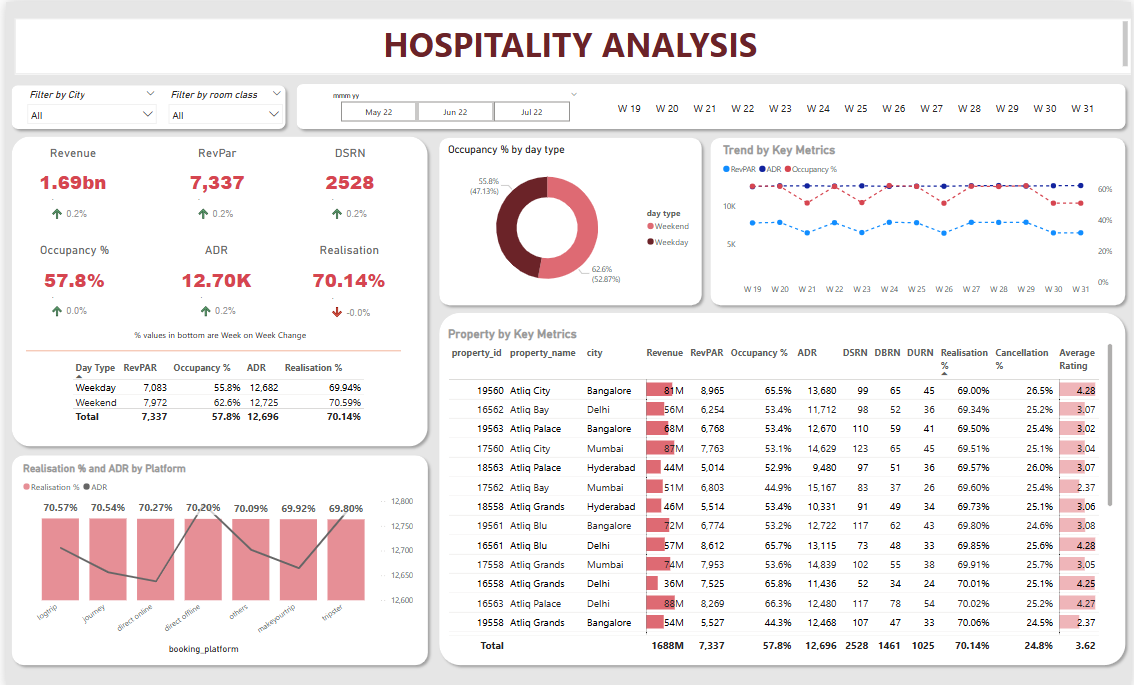

Layout of this report page (visuals, bound fields, positions):
{"tool":"powerbi","page":{"name":"Overall","canvas":[1800,1100],"ordinal":0},"visuals":[{"type":"shape","box":[0,124,456,88],"z":0},{"type":"shape","box":[456,122,1344,90],"z":1000},{"type":"shape","box":[684,488,1116,582],"z":2000},{"type":"shape","box":[684,208,438,286],"z":3000},{"type":"shape","box":[1118.6,208.6,681.7,286.1],"z":4000},{"type":"shape","box":[0.2,207,683.4,513.9],"z":5000},{"type":"slicer","fields":{"Values":["dim_rooms.room_class"]},"box":[250.7,133.3,202.7,72],"z":6000},{"type":"slicer","fields":{"Values":["dim_hotels.city"]},"box":[24,134.7,226.7,76],"z":7000},{"type":"card","title":"Revenue","fields":{"Values":["key_measures.Revenue"]},"box":[30.7,230.7,154.7,95.8],"z":8000,"group":"g2"},{"type":"tableEx","title":"Property by Key Metrics","fields":{"Values":["dim_hotels.property_id","dim_hotels.property_name","dim_hotels.city","key_measures.Revenue","key_measures.Rev Par","key_measures.Occupancy %","key_measures.ADR","key_measures.DSRN","key_measures.DBRN","key_measures.DURN","key_measures.Realisation %","key_measures.cancellation_rate"]},"box":[702,520,1074,528],"z":8000},{"type":"lineChart","title":"Trend by Key Metrics","fields":{"Category":["dim_date.mmm yy.Variation.Date Hierarchy.Month","dim_date.week no"],"Y2":["key_measures.Occupancy %"],"Y":["key_measures.Rev Par","key_measures.ADR"]},"box":[1142.7,225.3,633.3,252],"z":9000},{"type":"card","title":"RevPar","fields":{"Values":["key_measures.Rev Par"]},"box":[257.9,230.7,160.2,95.8],"z":9000,"group":"g2"},{"type":"card","title":"Occupancy %","fields":{"Values":["key_measures.Occupancy %"]},"box":[14.7,386.3,192,96],"z":9000,"group":"g1"},{"type":"tableEx","fields":{"Values":["dim_date.day type","key_measures.Rev Par","key_measures.Occupancy %","key_measures.ADR","key_measures.Realisation %"]},"box":[100,570,486,114],"z":10000},{"type":"card","title":"DSRN","fields":{"Values":["key_measures.DSRN"]},"box":[456.5,231.1,189.3,96],"z":11000,"group":"g2"},{"type":"shape","box":[0,716,684,354],"z":11000},{"type":"card","title":"ADR","fields":{"Values":["key_measures.ADR"]},"box":[241.4,385.9,193.3,96],"z":12000,"group":"g1"},{"type":"lineStackedColumnComboChart","title":"Realisation % and ADR by Platform","fields":{"Category":["fact_bookings.booking_platform"],"Y":["key_measures.Realisation %"],"Y2":["key_measures.ADR"]},"box":[22,736,634,312],"z":12000},{"type":"slicer","fields":{"Values":["dim_date.week no"]},"box":[942,146,834,48],"z":13000},{"type":"card","title":"Realisation","fields":{"Values":["key_measures.Realisation %"]},"box":[452.5,386.8,194.7,96],"z":13000,"group":"g1"},{"type":"group","id":"g1","title":"Group 1","box":[14.7,385.9,632.4,96.9],"z":15000},{"type":"group","id":"g2","title":"Group 2","box":[30.7,230.7,615.1,96.4],"z":17000},{"type":"tableEx","fields":{"Values":["key_measures.Revpar WoW change %"]},"box":[296,297.3,92,58.7],"z":18000},{"type":"shape","box":[32,550,600,16],"z":20000},{"type":"tableEx","fields":{"Values":["key_measures.Revpar WoW change %"]},"box":[61.3,297.3,92,58.7],"z":21000},{"type":"tableEx","fields":{"Values":["key_measures.Revpar WoW change %"]},"box":[509.3,297.3,92,58.7],"z":22000},{"type":"group","id":"g3","title":"Group 3","box":[61.3,454.3,540,60],"z":24000},{"type":"textbox","box":[200,517.3,308,33.3],"z":25000},{"type":"textbox","box":[14,26,1786,90],"z":26000},{"type":"tableEx","fields":{"Values":["key_measures.Occupancy WoW change %"]},"box":[61.3,454.3,92,58.7],"z":27000,"group":"g3"},{"type":"slicer","fields":{"Values":["dim_date.mmm yy"]},"box":[510,138,416,60],"z":27001},{"type":"donutChart","fields":{"Category":["dim_date.day type"],"Y":["key_measures.Occupancy %"]},"box":[701.7,225,405,251.7],"z":27002},{"type":"tableEx","fields":{"Values":["key_measures.ADR WoW change %"]},"box":[298.6,454.3,92,58.7],"z":28000,"group":"g3"},{"type":"tableEx","fields":{"Values":["key_measures.Realisation WoW change %"]},"box":[509.3,455.6,92,58.7],"z":29000,"group":"g3"}]}

Visuals, with their boxes in screenshot pixels (x1, y1, x2, y2), scaled from the page's 1800x1100 canvas onto the 1134x685 screenshot:
shape: BBox(0, 77, 287, 132)
shape: BBox(287, 76, 1133, 132)
shape: BBox(431, 304, 1133, 666)
shape: BBox(431, 130, 707, 308)
shape: BBox(705, 130, 1133, 308)
shape: BBox(0, 129, 431, 449)
slicer - dim_rooms.room_class: BBox(158, 83, 286, 128)
slicer - dim_hotels.city: BBox(15, 84, 158, 131)
"Revenue" card: BBox(19, 144, 117, 203)
"Property by Key Metrics" tableEx: BBox(442, 324, 1119, 653)
"Trend by Key Metrics" lineChart: BBox(720, 140, 1119, 297)
"RevPar" card: BBox(162, 144, 263, 203)
"Occupancy %" card: BBox(9, 241, 130, 300)
tableEx - dim_date.day type x key_measures.Rev Par: BBox(63, 355, 369, 426)
"DSRN" card: BBox(288, 144, 407, 204)
shape: BBox(0, 446, 431, 666)
"ADR" card: BBox(152, 240, 274, 300)
"Realisation % and ADR by Platform" lineStackedColumnComboChart: BBox(14, 458, 413, 653)
slicer - dim_date.week no: BBox(593, 91, 1119, 121)
"Realisation" card: BBox(285, 241, 408, 301)
"Group 1" group: BBox(9, 240, 408, 301)
"Group 2" group: BBox(19, 144, 407, 204)
tableEx - key_measures.Revpar WoW change %: BBox(186, 185, 244, 222)
shape: BBox(20, 342, 398, 352)
tableEx - key_measures.Revpar WoW change %: BBox(39, 185, 97, 222)
tableEx - key_measures.Revpar WoW change %: BBox(321, 185, 379, 222)
"Group 3" group: BBox(39, 283, 379, 320)
textbox: BBox(126, 322, 320, 343)
textbox: BBox(9, 16, 1133, 72)
tableEx - key_measures.Occupancy WoW change %: BBox(39, 283, 97, 319)
slicer - dim_date.mmm yy: BBox(321, 86, 583, 123)
donutChart - dim_date.day type x key_measures.Occupancy %: BBox(442, 140, 697, 297)
tableEx - key_measures.ADR WoW change %: BBox(188, 283, 246, 319)
tableEx - key_measures.Realisation WoW change %: BBox(321, 284, 379, 320)
